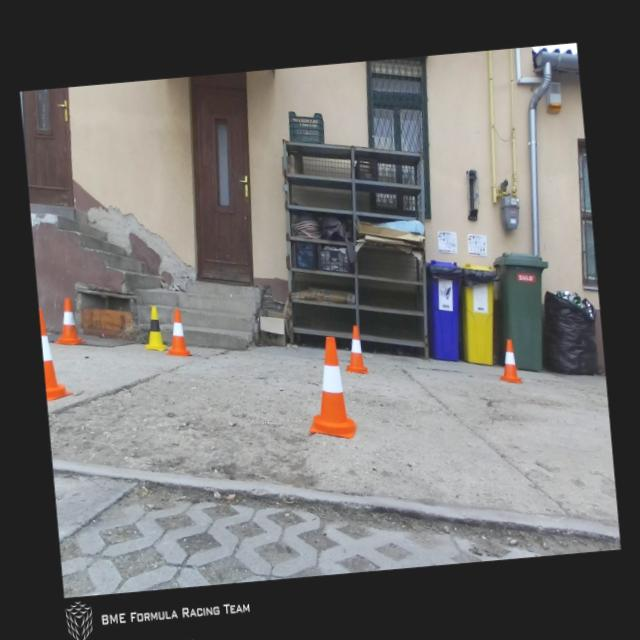orange_cone: (302, 335, 357, 441), (38, 306, 74, 401), (162, 307, 192, 358), (52, 297, 82, 345), (342, 324, 368, 376), (496, 338, 522, 384)
yellow_cone: (142, 305, 168, 352)
